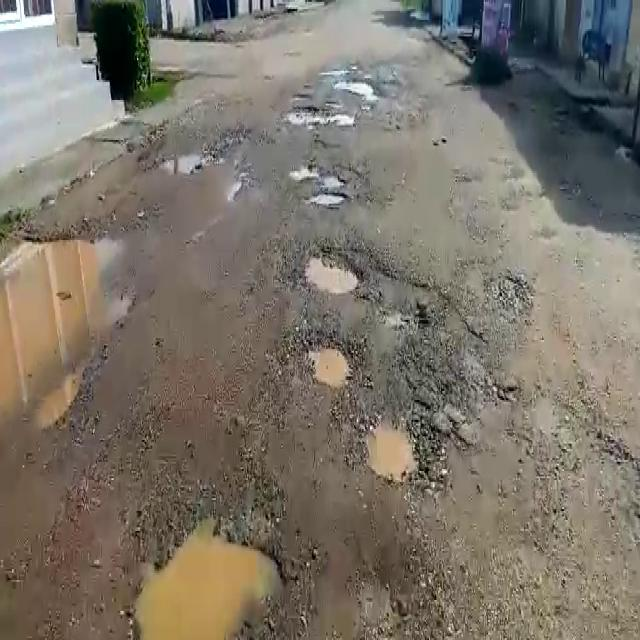Pothole: (126, 510, 294, 640), (361, 410, 422, 480), (297, 246, 365, 299), (303, 338, 352, 389), (279, 103, 353, 128), (155, 147, 209, 176), (307, 183, 351, 207), (344, 79, 380, 100)
